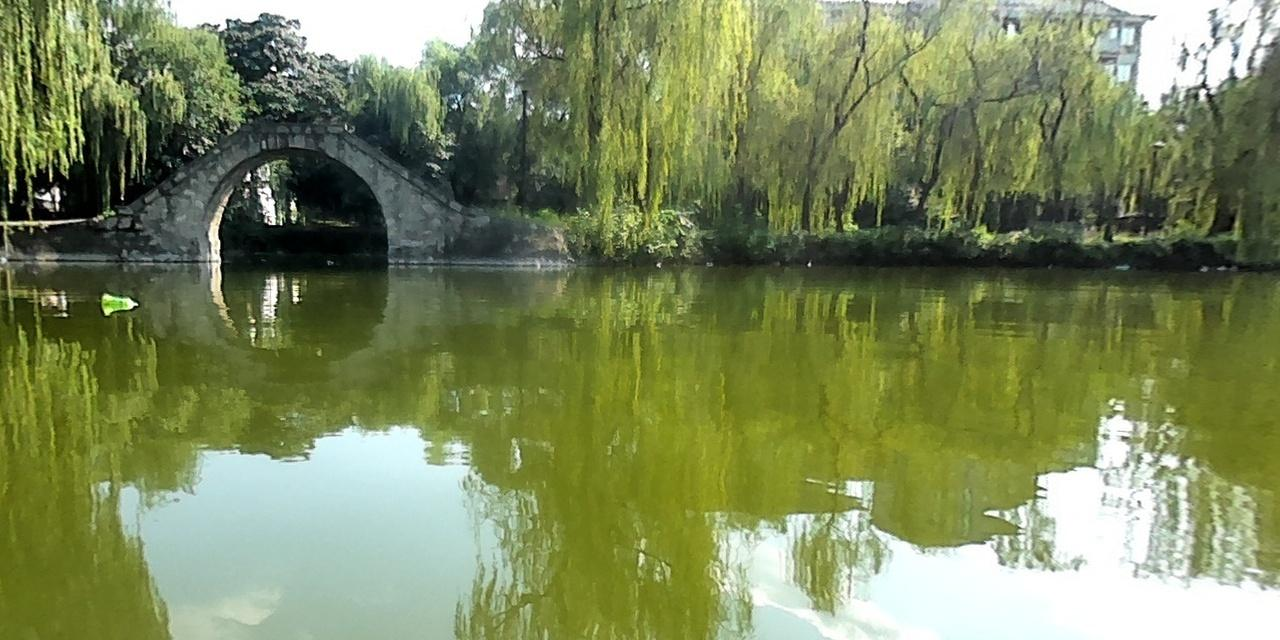bottle: (98, 293, 136, 309)
